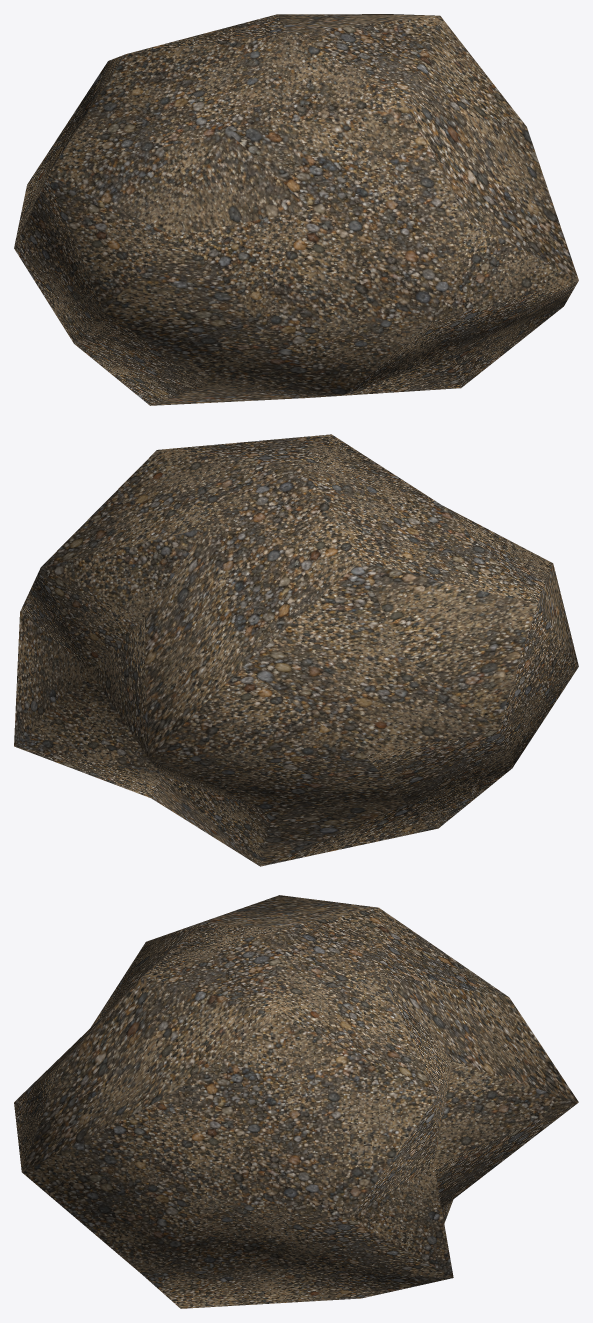
Rendered from level_hc_native_070_0.glb.
3 renders of one model, top to bottom at view 1: azimuth 30°, elevation 25°; view 2: azimuth 150°, elevation 25°; view 3: azimuth 270°, elevation 25°, orthographic. The views are drawn at different scales.
Parts seen in each view (by area): view 1: level_hc_native_070_0; view 2: level_hc_native_070_0; view 3: level_hc_native_070_0.
Boxes of the visible parts, left/top/right/bottom form: level_hc_native_070_0: left=14, top=14, right=578, bottom=405; level_hc_native_070_0: left=14, top=434, right=578, bottom=866; level_hc_native_070_0: left=14, top=895, right=578, bottom=1308.
Size of the model in its own units: 1.15 by 0.7793 by 1.21.
1 material, 1 textured.
